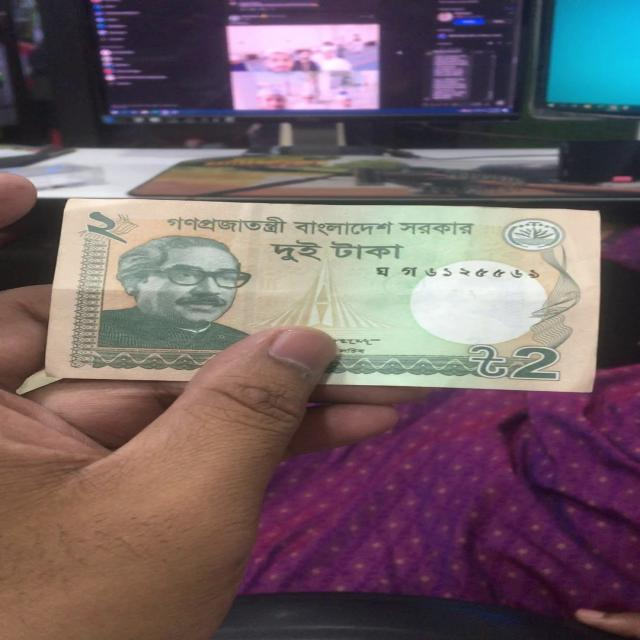Taka: (53, 195, 600, 394)
